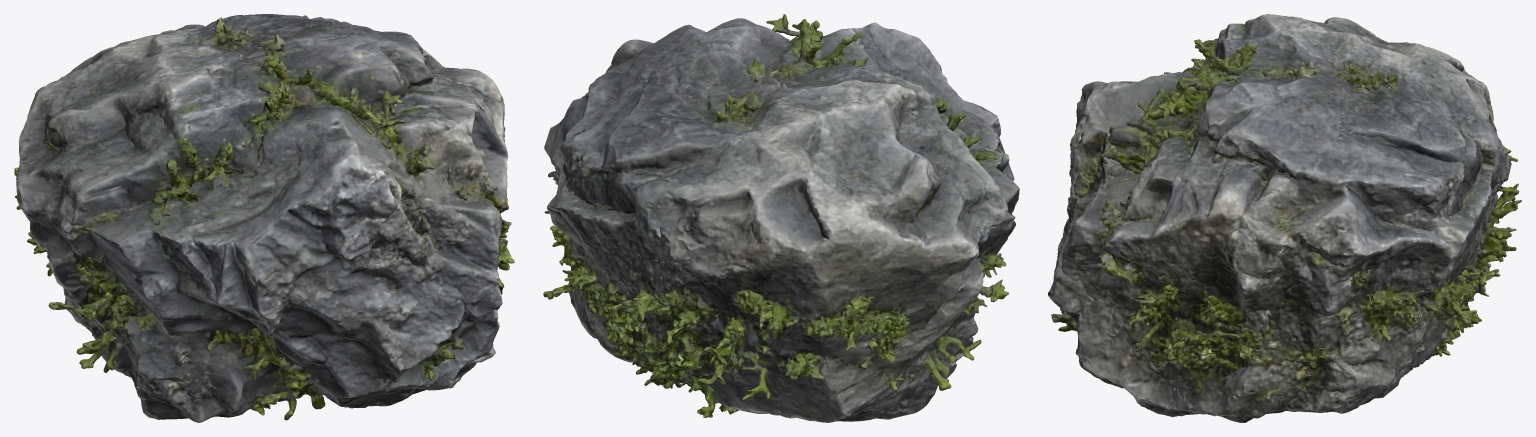
Rendered from moss-rock-detail-v10.glb.
3 views of the same model, side by side, from view 1: azimuth 30°, elevation 25°; view 2: azimuth 150°, elevation 25°; view 3: azimuth 270°, elevation 25° (orthographic). The views are drawn at different scales.
Visible parts, largest first — view 1: geometry_0; view 2: geometry_0; view 3: geometry_0.
Boxes of the visible parts, left/top/right/bottom form: geometry_0: left=14, top=14, right=514, bottom=422; geometry_0: left=543, top=14, right=1019, bottom=422; geometry_0: left=1048, top=14, right=1521, bottom=422.
Size of the model in its own units: 0.32 by 0.2509 by 0.3173.
Materials: 1 (1 with a texture image).
